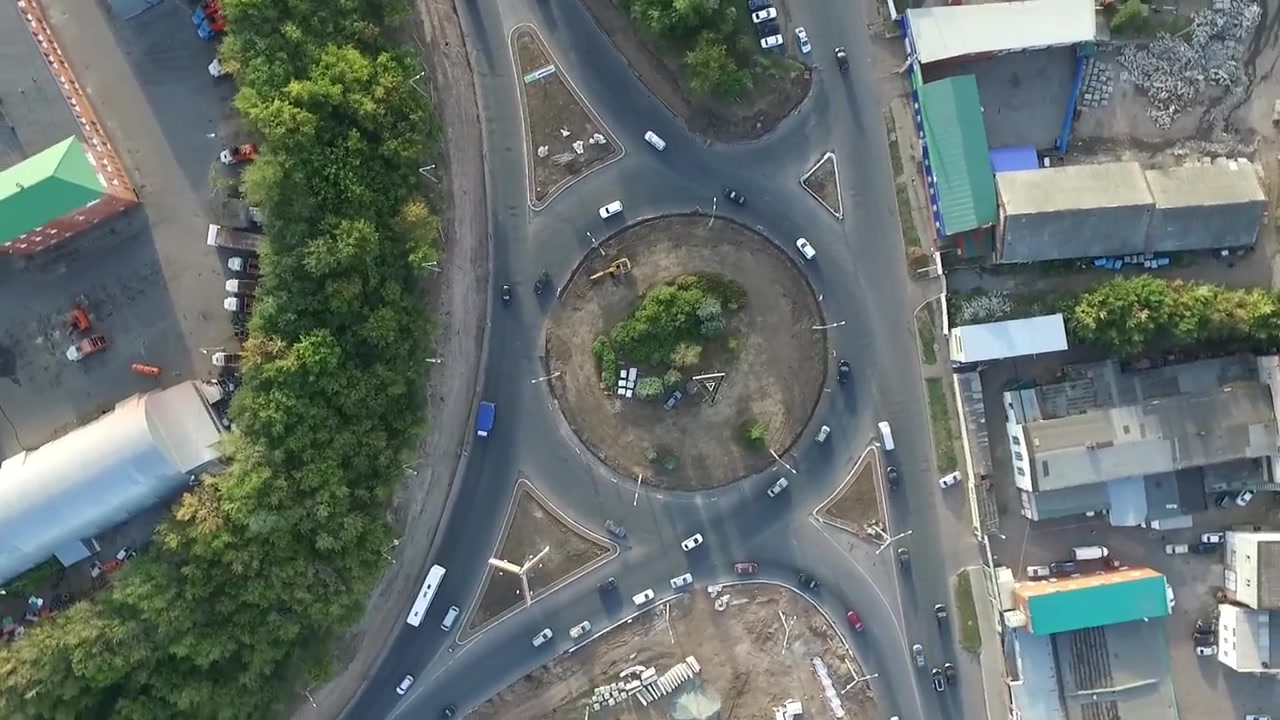car: (403, 562, 448, 629), (62, 332, 110, 365), (195, 8, 230, 39), (218, 141, 260, 166), (190, 1, 226, 30), (472, 399, 497, 440), (1070, 544, 1110, 562), (875, 420, 897, 451), (596, 198, 626, 220), (765, 475, 790, 500), (642, 129, 668, 153), (440, 604, 461, 633), (794, 236, 817, 262), (205, 56, 231, 79), (659, 388, 683, 412), (532, 268, 551, 297), (793, 26, 812, 55), (529, 626, 554, 648), (679, 532, 705, 553), (566, 620, 593, 640), (394, 674, 416, 698), (602, 518, 627, 539), (833, 45, 851, 74), (749, 6, 778, 24), (630, 587, 656, 607), (796, 572, 822, 592), (720, 187, 746, 207), (845, 608, 865, 634), (667, 571, 694, 590), (933, 601, 950, 630), (939, 470, 962, 491), (733, 560, 760, 577), (835, 357, 851, 385), (895, 546, 911, 574), (596, 575, 619, 594), (759, 33, 784, 50), (1024, 564, 1050, 580), (499, 283, 514, 310), (911, 643, 926, 670), (930, 666, 945, 693), (1236, 486, 1256, 506), (755, 20, 781, 35), (1051, 560, 1077, 575), (813, 424, 831, 445), (1217, 489, 1235, 510), (437, 704, 460, 720), (886, 464, 899, 491), (1199, 532, 1226, 545), (943, 661, 957, 686), (1194, 643, 1218, 657), (1190, 543, 1218, 555), (747, 1, 775, 12), (1191, 632, 1215, 644), (1164, 544, 1189, 555), (1195, 619, 1216, 632), (1243, 712, 1273, 720)
